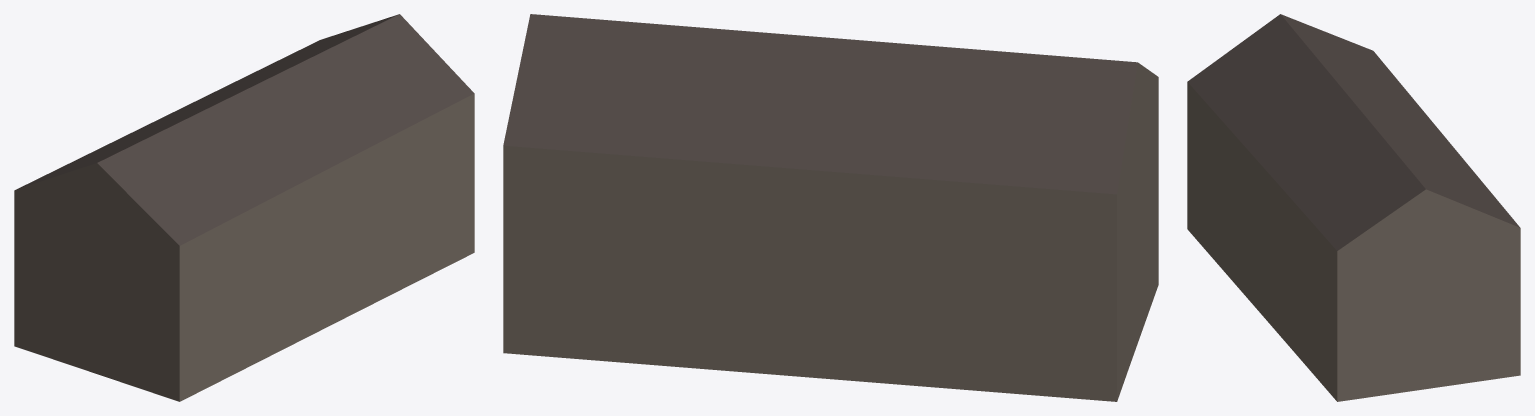
3 views of the same model, side by side, from view 1: azimuth 30°, elevation 25°; view 2: azimuth 150°, elevation 25°; view 3: azimuth 270°, elevation 25° (orthographic). The views are drawn at different scales.
Visible parts, largest first — view 1: HP-w1198842497; view 2: HP-w1198842497; view 3: HP-w1198842497.
Part boxes in pixels (x1=…): HP-w1198842497: x1=14, y1=14, x2=474, y2=401; HP-w1198842497: x1=503, y1=14, x2=1158, y2=401; HP-w1198842497: x1=1187, y1=14, x2=1520, y2=401.
Size of the model in its own units: 17.75 by 8.12 by 12.27.
